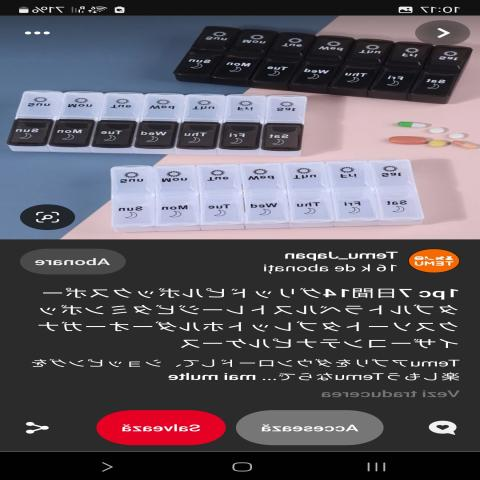Pill-box: (98, 144, 442, 231), (0, 81, 331, 156), (147, 27, 469, 96)
